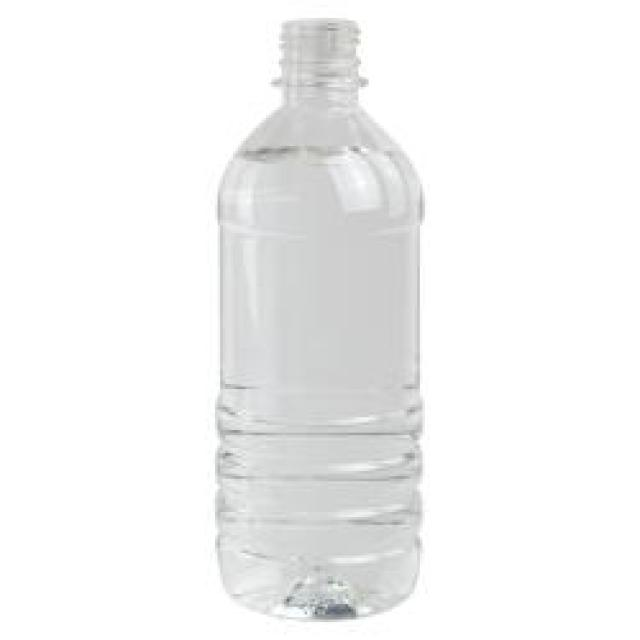bottle: (205, 9, 429, 620)
